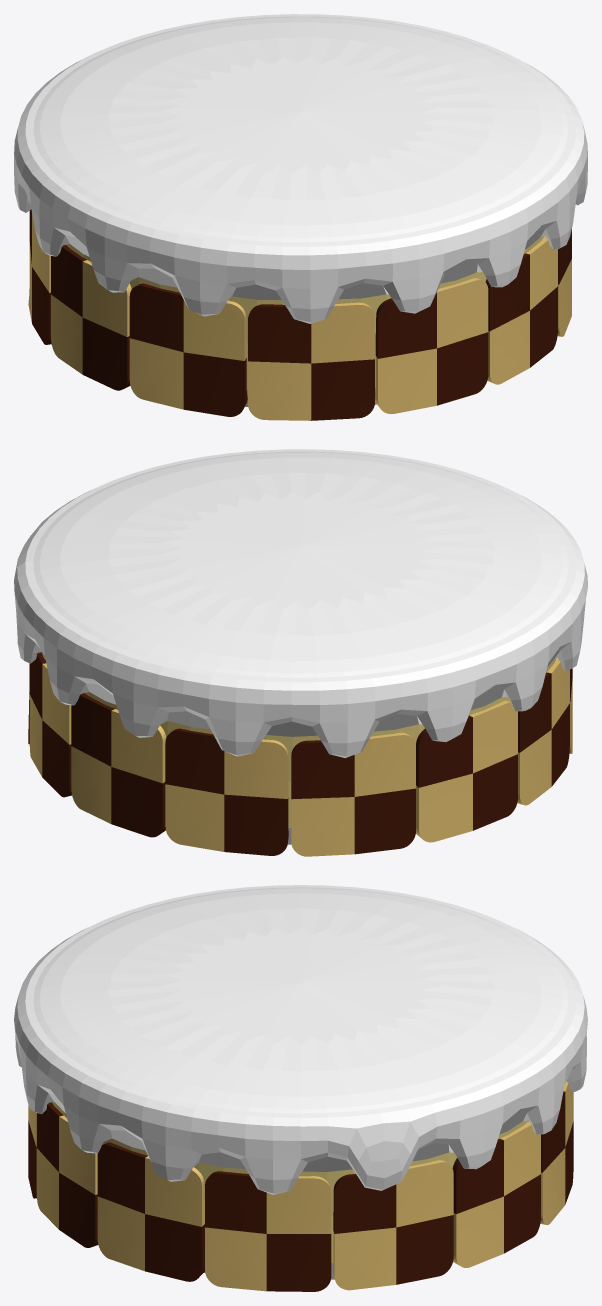
The model's file is CakeCookie.fbx.
3 views of the same model, one above another, from view 1: azimuth 30°, elevation 25°; view 2: azimuth 150°, elevation 25°; view 3: azimuth 270°, elevation 25° (orthographic).
Parts seen in each view (by area): view 1: 円柱, 立方体.001; view 2: 円柱, 立方体.001; view 3: 円柱, 立方体.001.
Boxes of the visible parts, x1,y1,x2,y2 form: 円柱: (14,14,587,406); 立方体.001: (28,209,571,420); 円柱: (14,449,587,844); 立方体.001: (28,652,572,856); 円柱: (14,885,587,1279); 立方体.001: (28,1081,573,1291).
Size of the model in its own units: 712 by 265 by 712.
